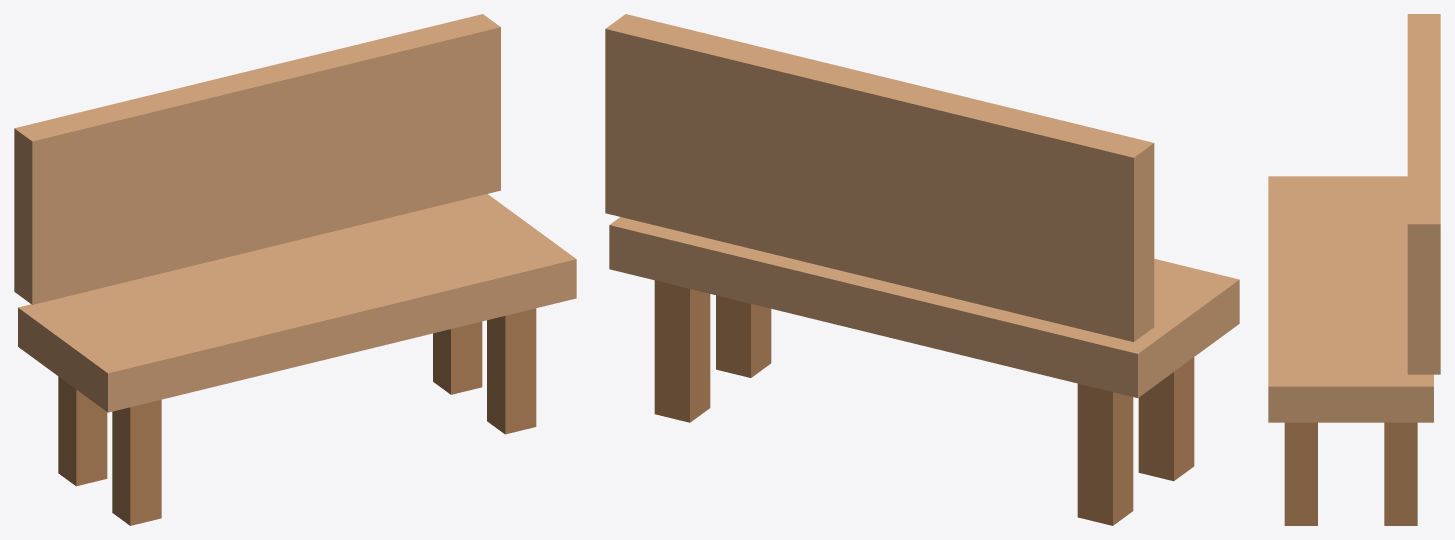
Rendered from beach_bench.glb.
The picture shows the model from 3 angles, left to right: view 1: azimuth 30°, elevation 25°; view 2: azimuth 150°, elevation 25°; view 3: azimuth 270°, elevation 25°; orthographic projection. The views are drawn at different scales.
Parts seen in each view (by area): view 1: beach_bench; view 2: beach_bench; view 3: beach_bench.
Boxes of the visible parts, bbox=[...] form: beach_bench: bbox=[14, 14, 576, 525]; beach_bench: bbox=[605, 14, 1239, 525]; beach_bench: bbox=[1268, 14, 1440, 525].
Bounding box in the file's own units: 1.5 × 1.05 × 0.52.
